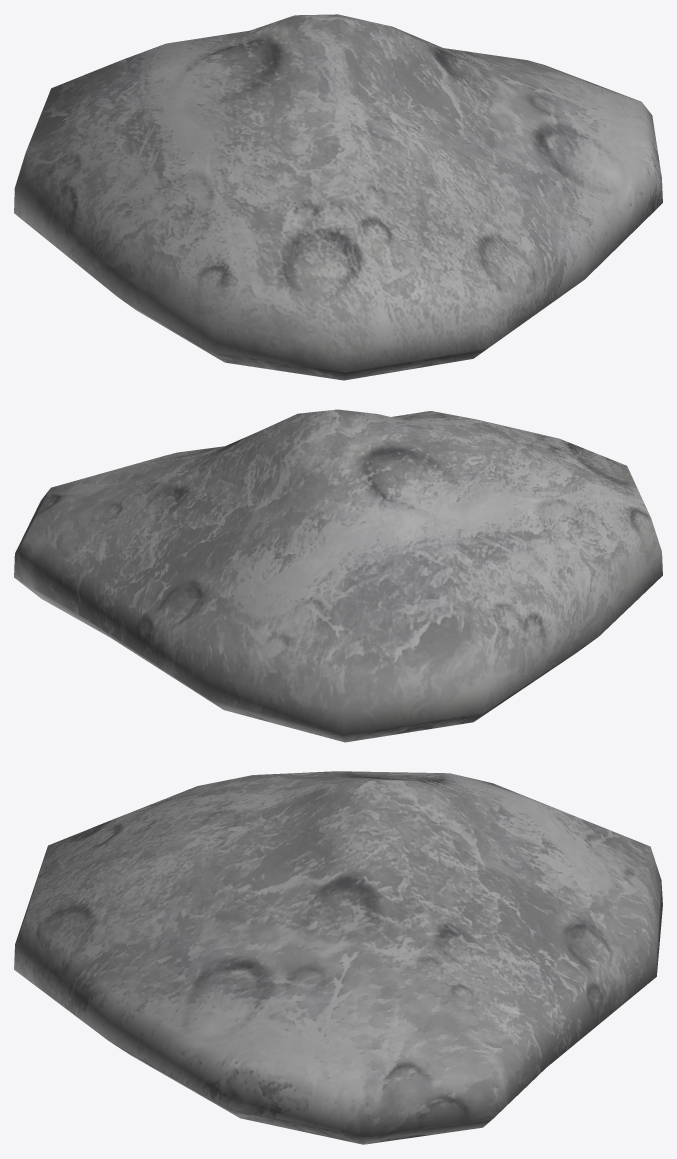
File: rockM.fbx
The picture shows the model from 3 angles, top to bottom: view 1: azimuth 30°, elevation 25°; view 2: azimuth 150°, elevation 25°; view 3: azimuth 270°, elevation 25°; orthographic projection. The views are drawn at different scales.
Parts seen in each view (by area): view 1: pCone1; view 2: pCone1; view 3: pCone1.
Boxes of the visible parts, bbox=[...] form: pCone1: bbox=[14, 14, 662, 380]; pCone1: bbox=[14, 409, 662, 742]; pCone1: bbox=[14, 771, 662, 1144].
Size of the model in its own units: 337 by 151 by 331.
1 material, 1 textured.
